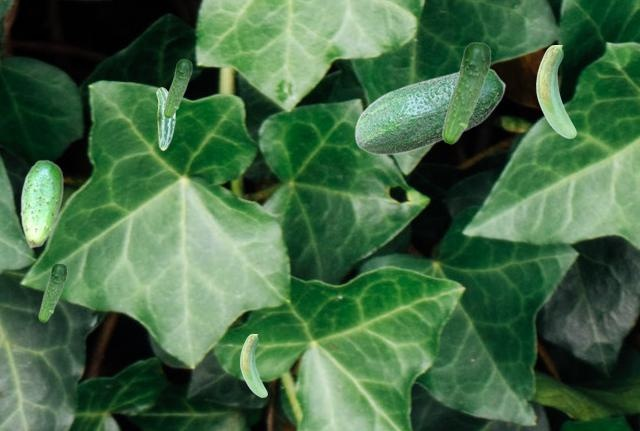cucumber: (354, 68, 505, 154), (441, 42, 490, 143), (20, 159, 62, 247), (536, 45, 575, 137), (38, 263, 66, 321), (163, 59, 191, 117), (240, 334, 266, 396), (156, 87, 174, 149)
